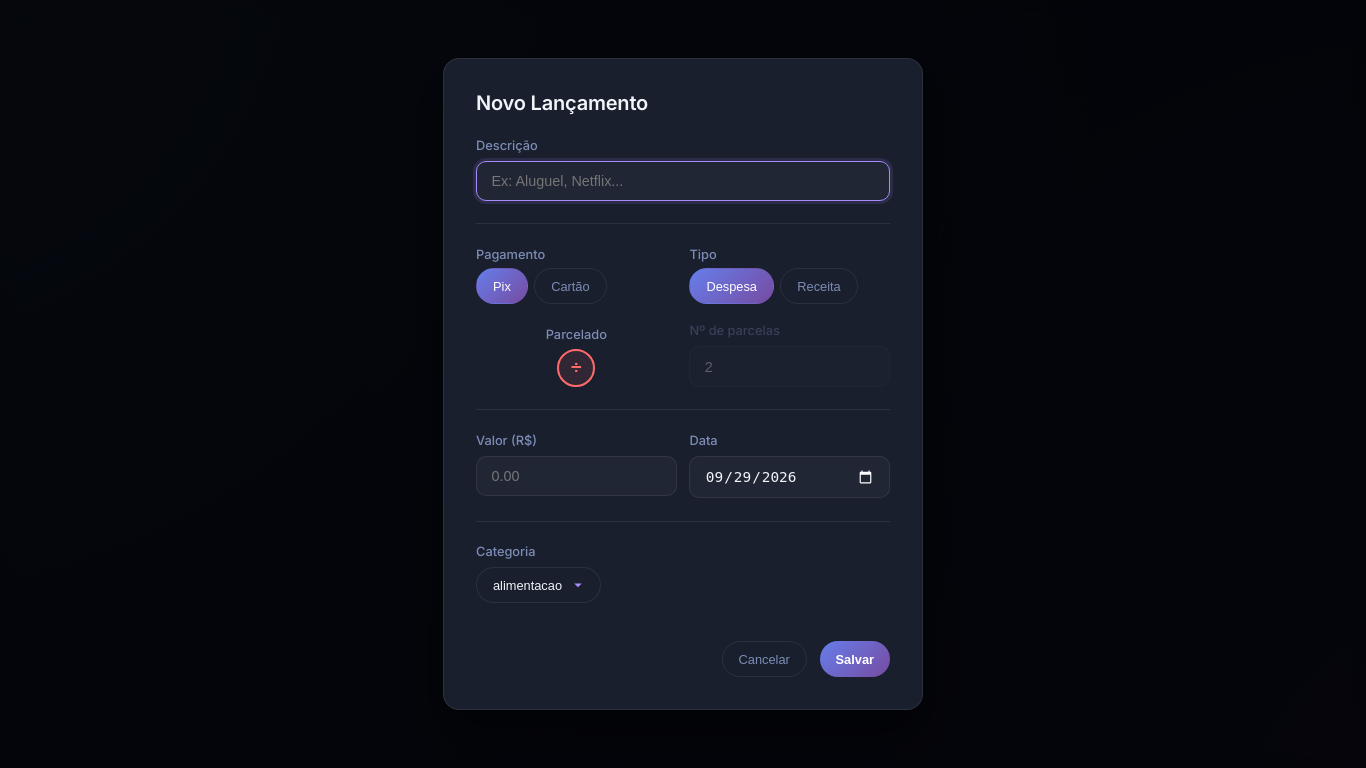
Test case: AddTransaction - Value Mode Toggle › exibe toggle de modo de valor ao ativar parcelado
Click the button named "Ativar parcelamento": (576, 368) [557, 349, 595, 387]
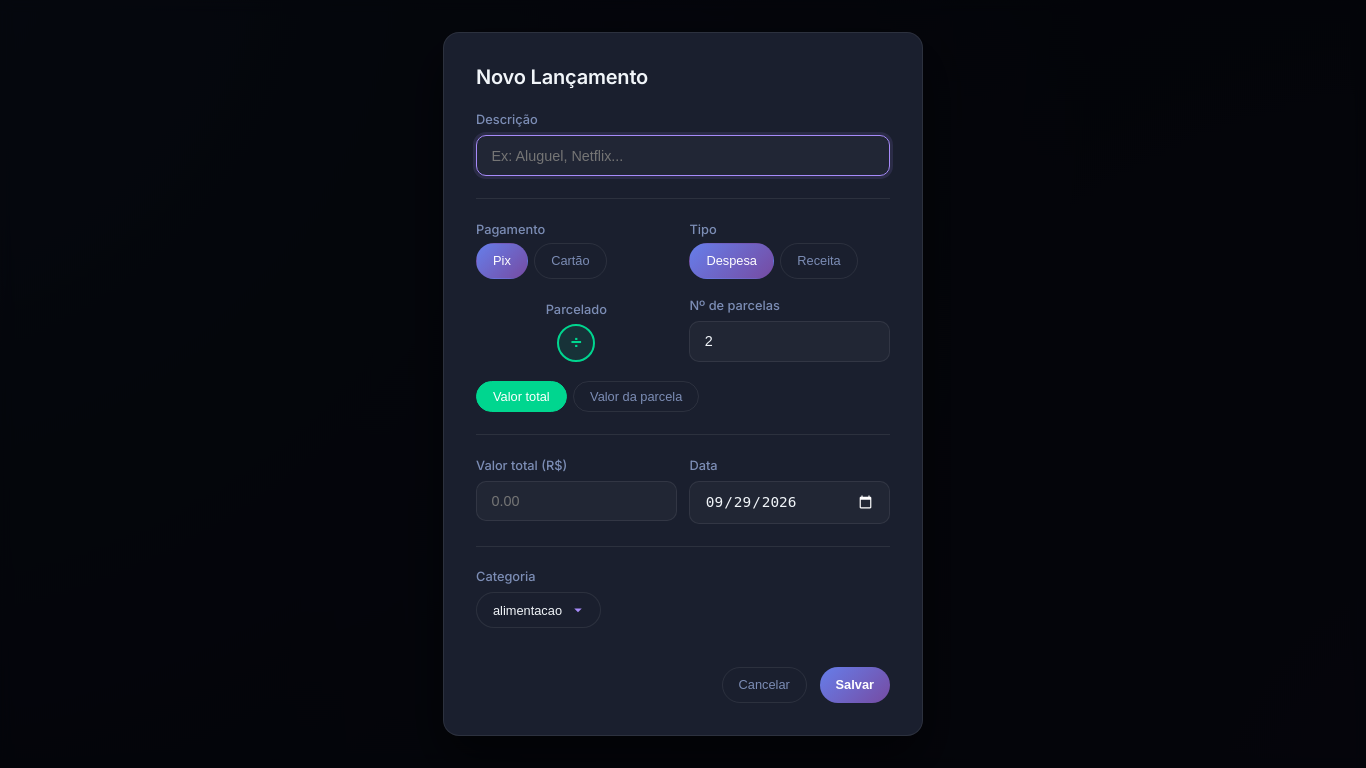
Now the button "Valor total" is shown, box [476, 381, 567, 412]
Now the button "Valor da parcela" is shown, box [573, 381, 699, 412]
